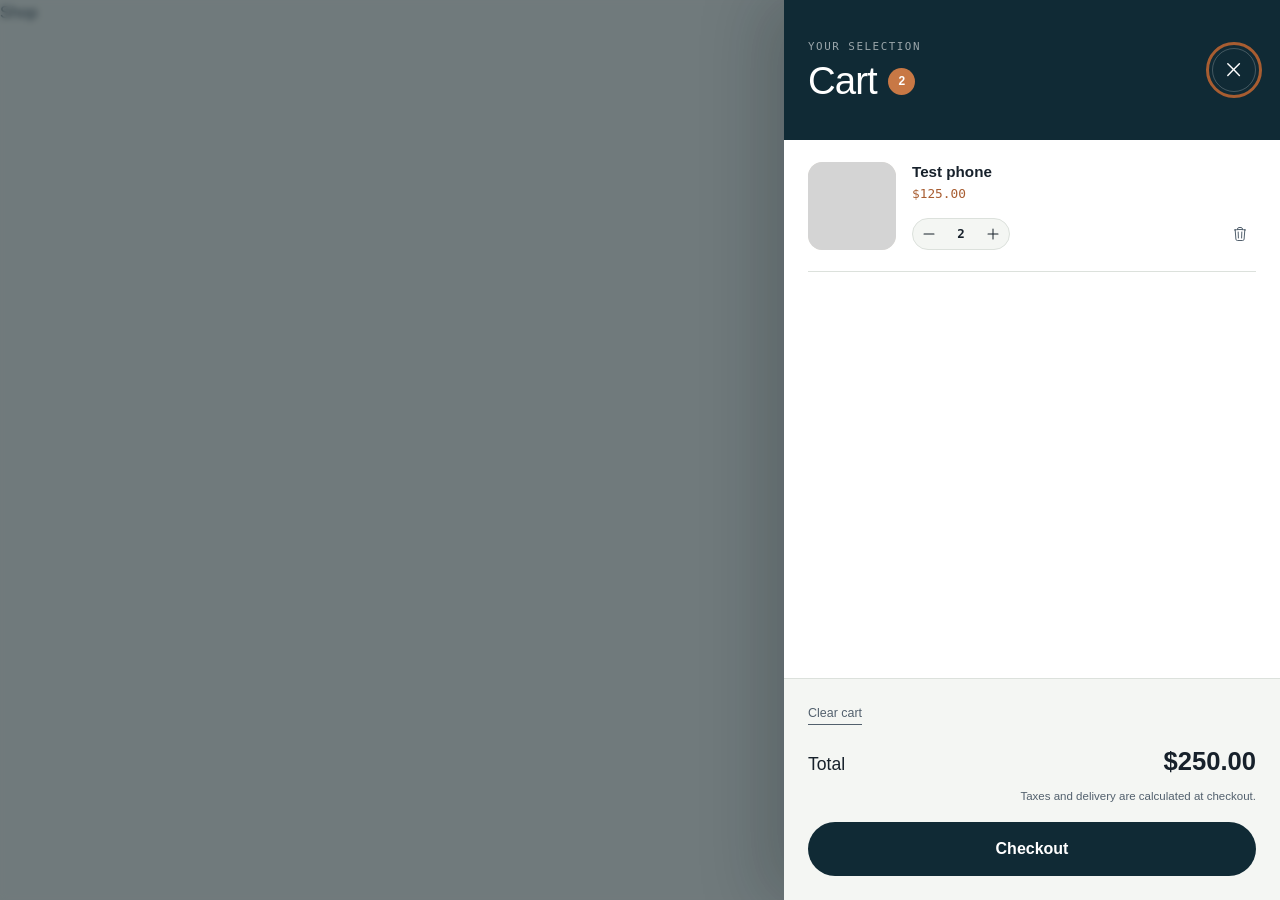
Test case: opens checkout from the drawer, closes the modal and preserves items
The width and height of the screenshot is (1280, 900).
Click the link "Checkout" at (1032, 849), box [808,822,1256,876]
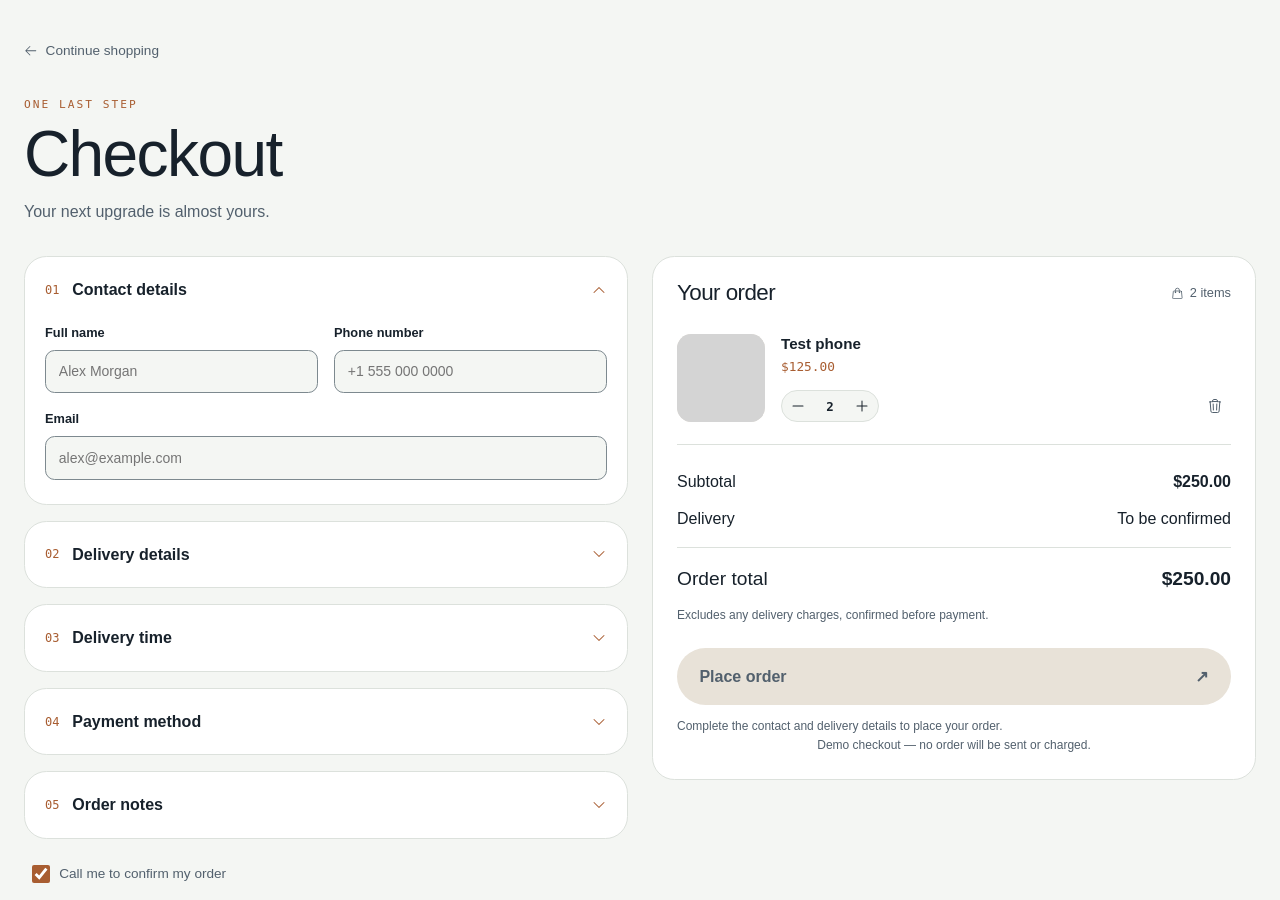
Expected: the heading "Checkout" is shown, [24,118,282,190]
Expected: the dialog is gone
Expected: the text "$250.00" is shown 2 times, [1173,469,1231,494]; [1162,564,1231,595]
Click the button named "Increase quantity of Test phone" at (862, 406), box [846,391,878,421]
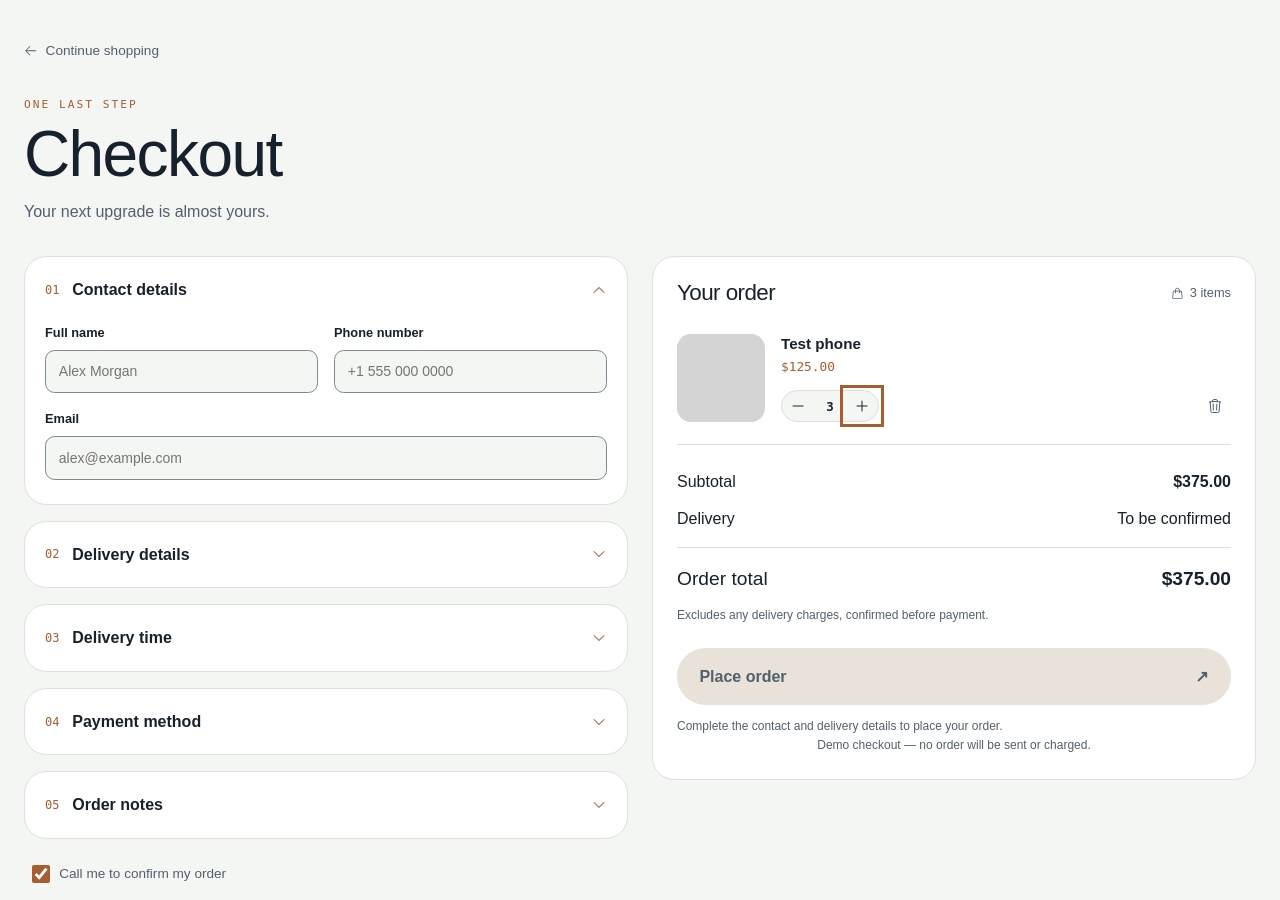
Expected: the text "$375.00" is shown 2 times, [1173,469,1231,494]; [1162,564,1231,595]
Click the button named "Remove Test phone from cart" at (1215, 406), box [1199,390,1231,422]
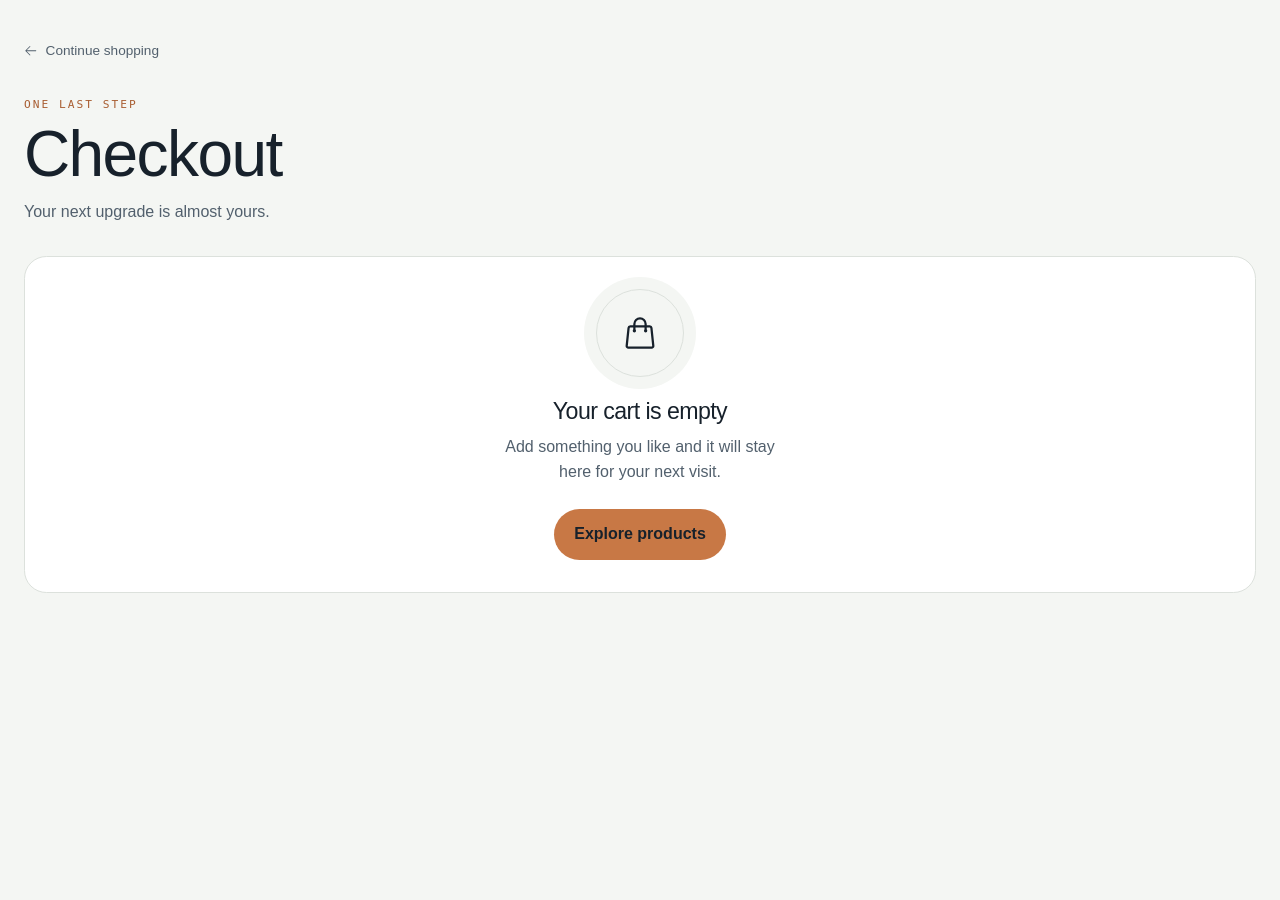
Expected: the heading "Your cart is empty" is shown, [553,399,727,423]
Expected: the button "Place order" is gone
